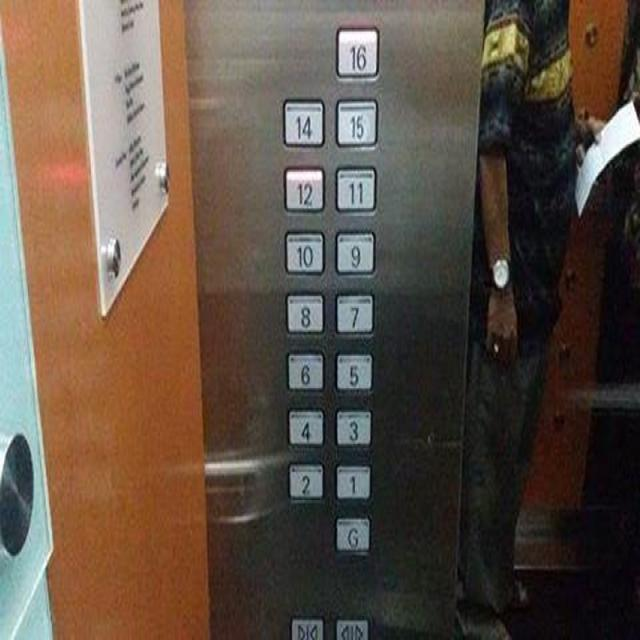1: (333, 460, 372, 500)
10: (282, 225, 326, 275)
11: (333, 162, 378, 214)
12: (282, 161, 326, 212)
14: (280, 95, 326, 149)
15: (333, 94, 380, 150)
16: (333, 23, 381, 81)
2: (286, 460, 325, 504)
3: (332, 405, 374, 448)
4: (286, 405, 326, 447)
5: (333, 351, 375, 392)
6: (286, 347, 325, 393)
7: (334, 289, 374, 336)
8: (284, 288, 326, 335)
9: (333, 225, 376, 278)
G: (334, 512, 371, 553)
